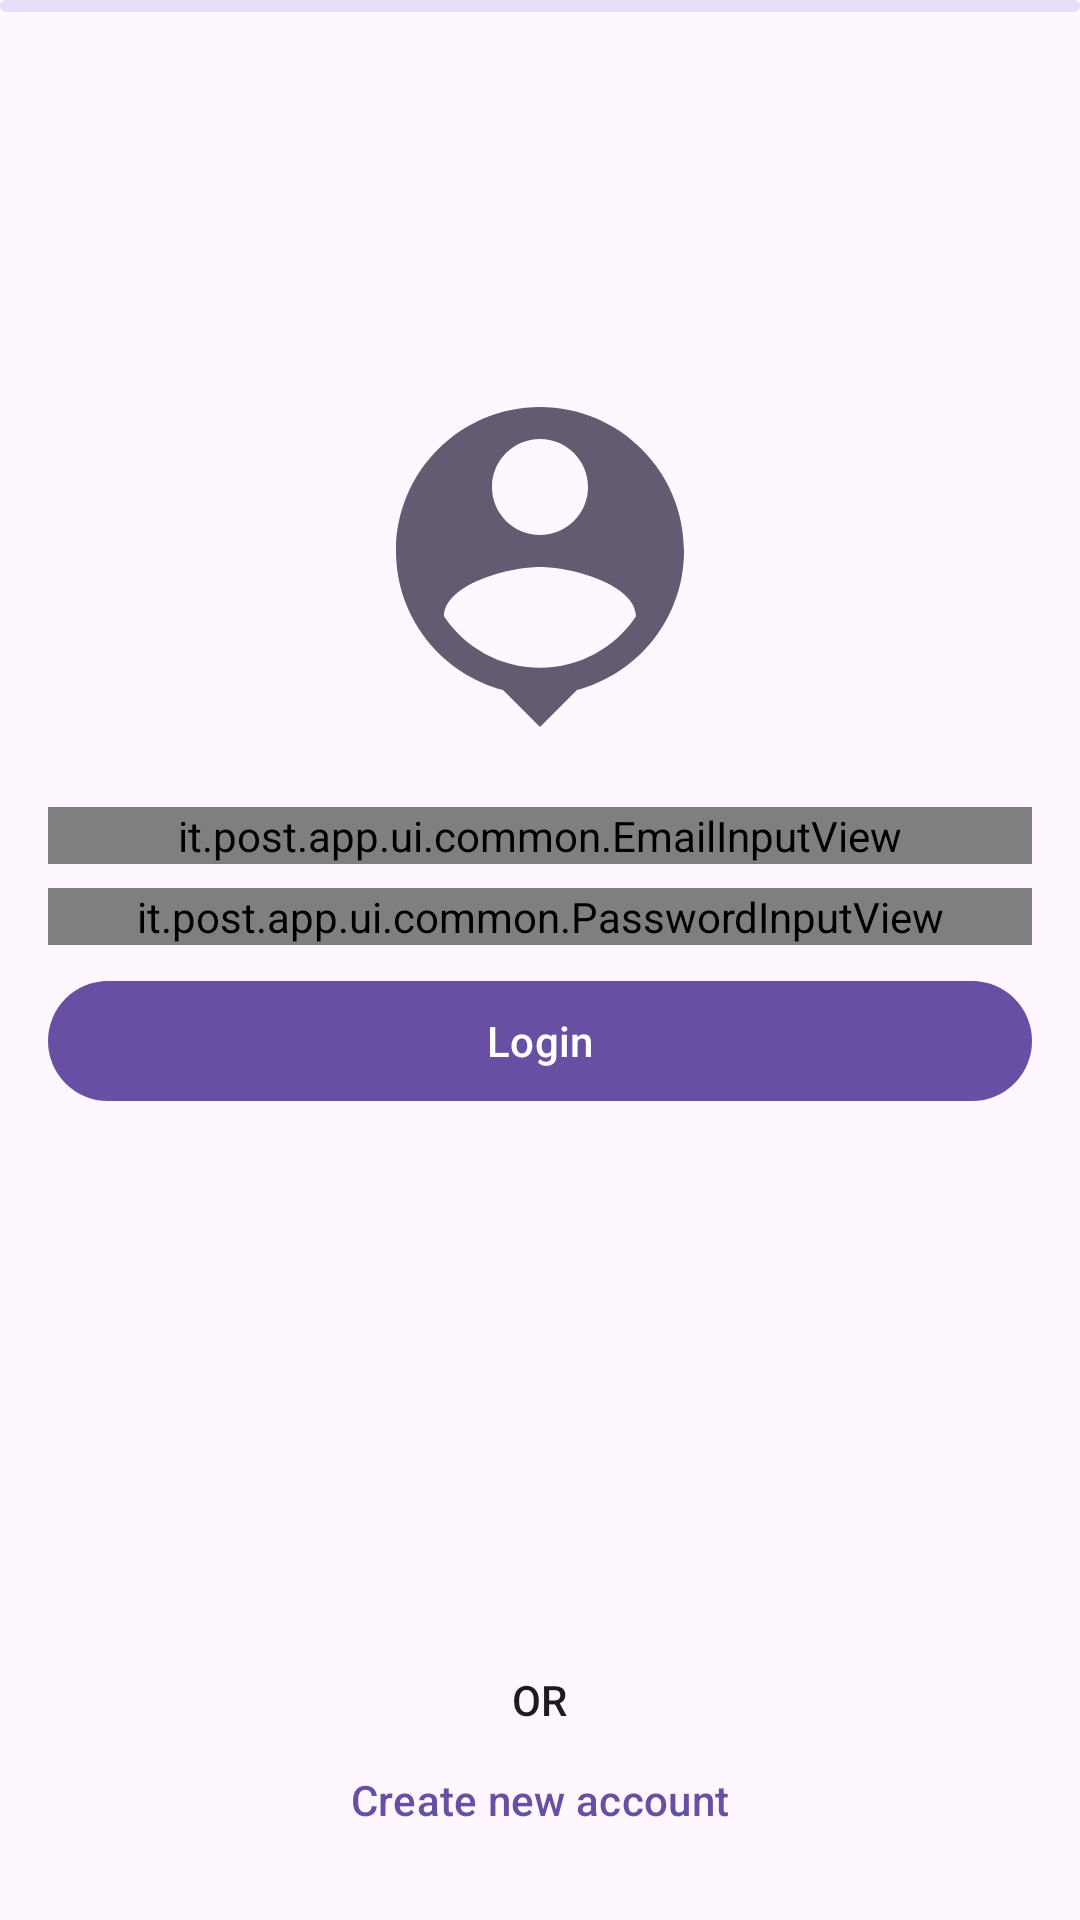

Screen size 1080×1920. Icon name, then its center in pixels as (x,y):
login: (540,567)
